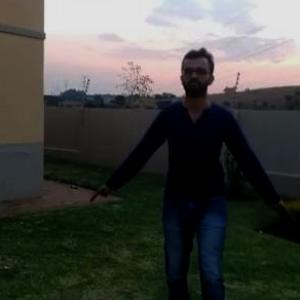land: (111, 53, 288, 284)
